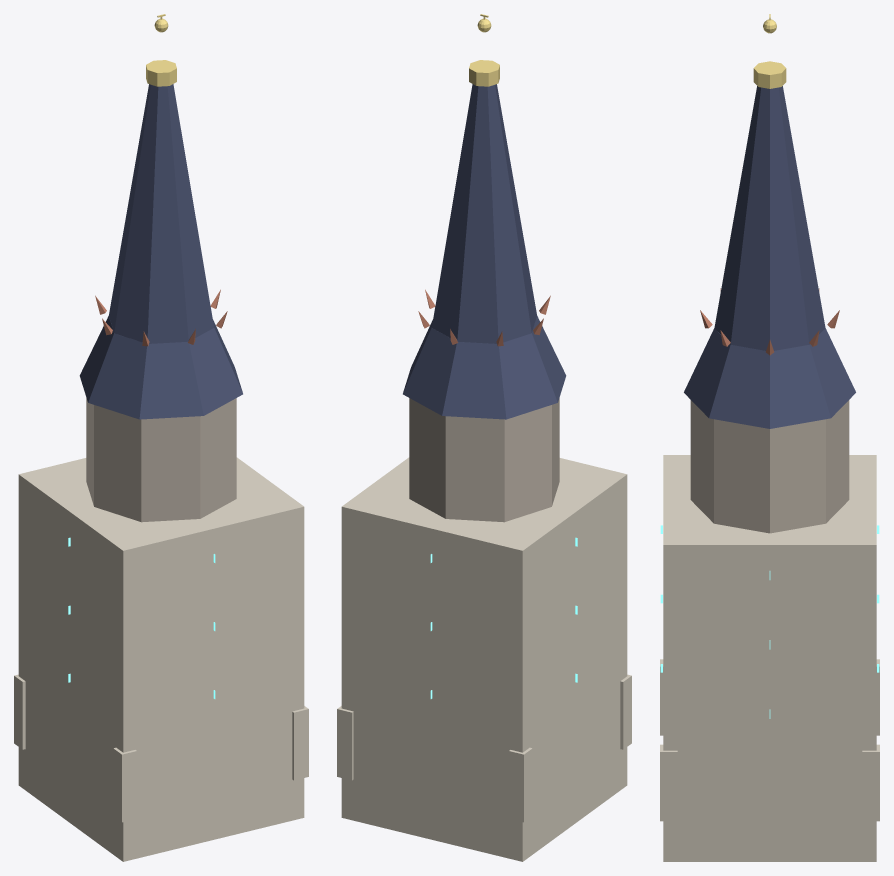
The model's file is church_spire_v17.glb.
The picture shows the model from 3 angles, left to right: view 1: azimuth 30°, elevation 25°; view 2: azimuth 150°, elevation 25°; view 3: azimuth 270°, elevation 25°; orthographic projection.
Visible parts, largest first — view 1: Cube, Cone.001, Cylinder, Cone, Cube.001, Cube.002, Cube.003, Cylinder.001; view 2: Cube, Cone.001, Cylinder, Cone, Cube.003, Cube.004, Cube.001, Cylinder.001; view 3: Cube, Cone.001, Cylinder, Cone, Cube.002, Cube.004, Cylinder.001.
Boxes of the visible parts, x1,y1,x2,y2 form: Cube: (18,457,304,861); Cone.001: (108,84,213,343); Cylinder: (86,398,236,522); Cone: (79,316,242,419); Cube.001: (113,747,136,822); Cube.002: (292,706,308,780); Cube.003: (14,674,25,749); Cylinder.001: (146,60,176,86); Cube: (341,457,627,861); Cone.001: (432,84,537,343); Cylinder: (409,398,559,522); Cone: (403,316,566,419); Cube.003: (509,747,532,822); Cube.004: (337,706,353,780); Cube.001: (620,674,631,749); Cylinder.001: (469,60,499,86); Cube: (663,455,876,861); Cone.001: (714,86,825,350); Cylinder: (690,400,849,533); Cone: (684,328,855,428); Cube.002: (660,744,677,821); Cube.004: (862,744,879,821); Cylinder.001: (753,61,786,88).
Bounding box in the file's own units: 4.02 × 16.18 × 4.02.
